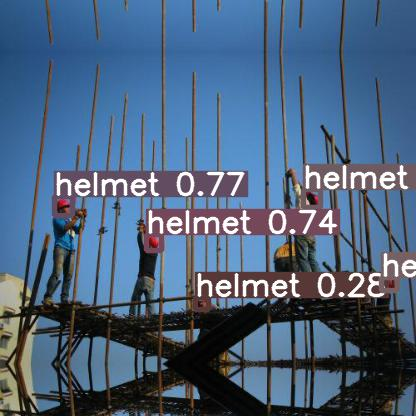helmet: (54, 196, 72, 215), (303, 189, 320, 207), (146, 234, 161, 250), (381, 277, 397, 290), (195, 297, 208, 309)
